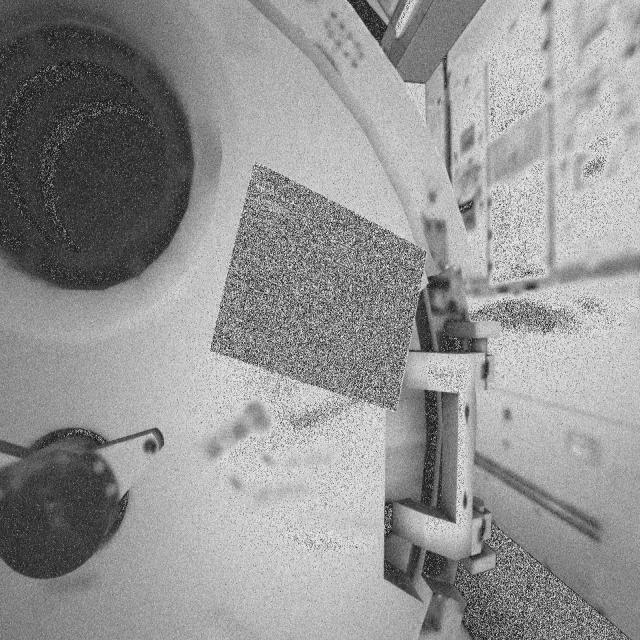letter: (334, 240, 358, 274)
